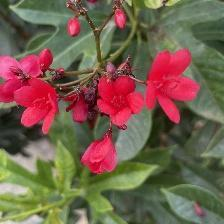jatropha: (144, 48, 203, 127), (98, 76, 147, 130)
